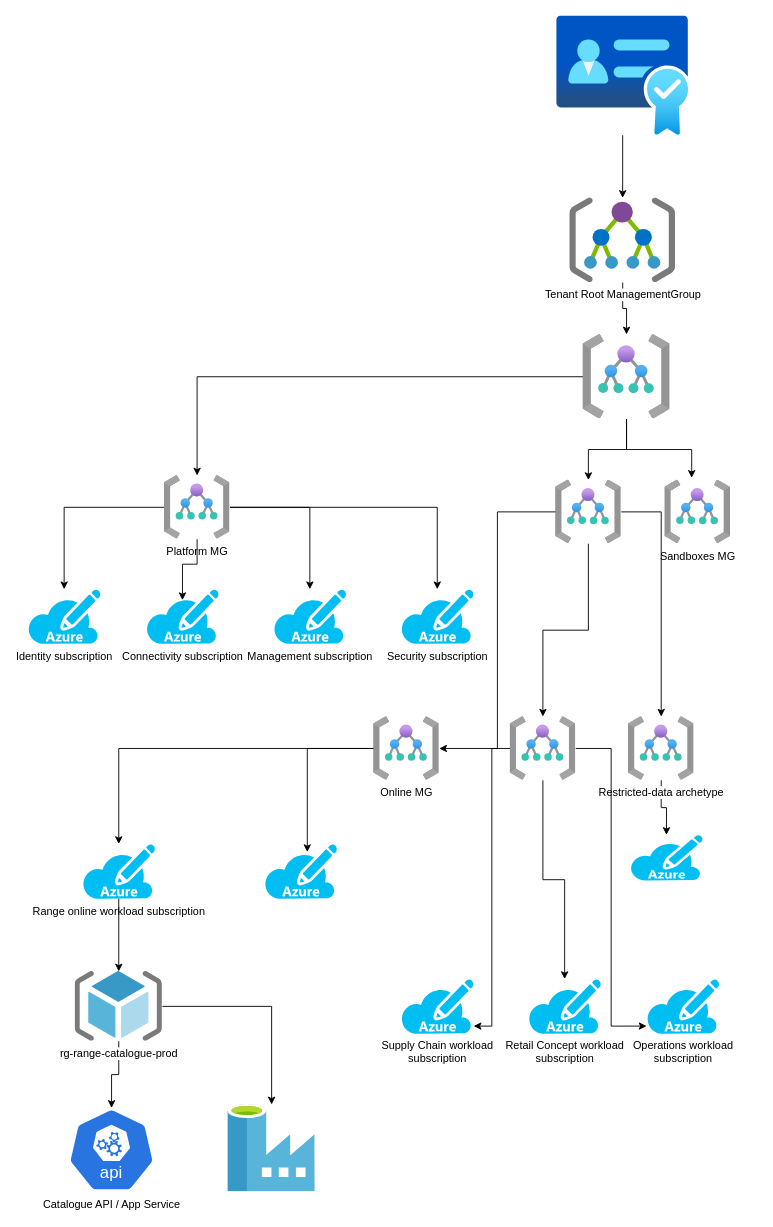
Some shapes in this 773 by 1227 pixel diagram are drawn without their labels. The shapes that lost their labels are listed below. From the top down, each one's centre as x and y in pixels, then its label:
pixel 622 75: Entra ID tenant
pixel 626 376: Retailer Intermediate Root MG
pixel 588 511: Landing Zones MG
pixel 542 748: Corp MG
pixel 300 871: Commerce workload subscription
pixel 666 857: Restricted-data workload subscription
pixel 271 1147: Catalogue data services
